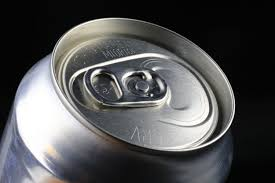can: (1, 16, 241, 183)
